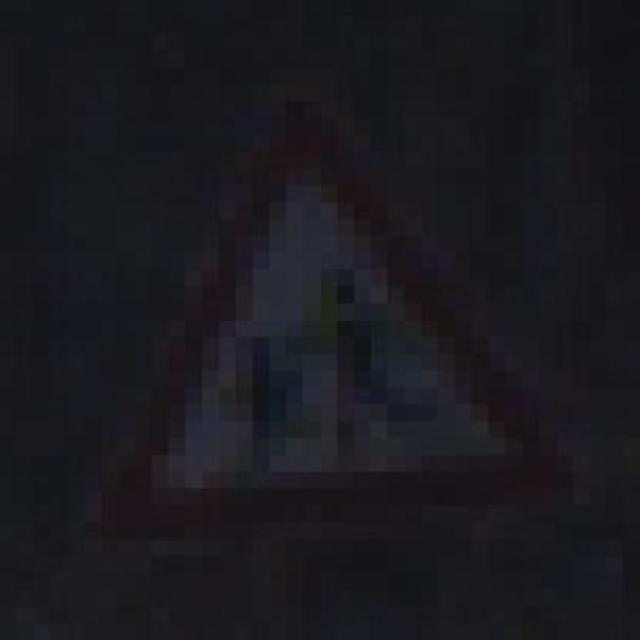Beware of children: (67, 94, 539, 566)
